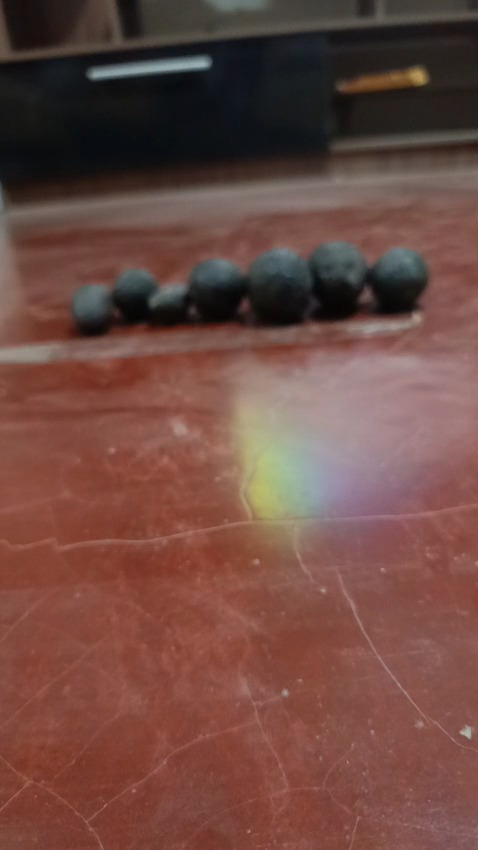Primera: (247, 247, 312, 324), (307, 240, 368, 318)
Segunda: (369, 247, 428, 314), (188, 256, 246, 321), (112, 267, 158, 321)
Tercera: (71, 283, 112, 335), (148, 284, 190, 324)
